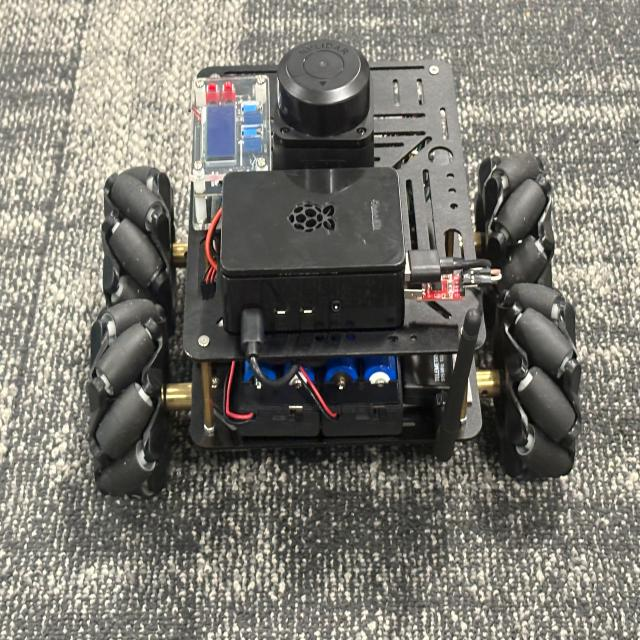ArduinoCar3: (84, 33, 583, 493)
